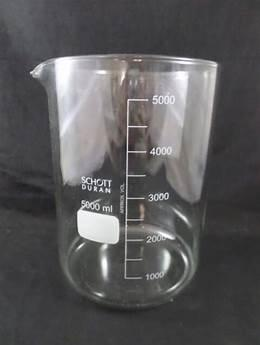Beaker: (25, 48, 220, 312)
